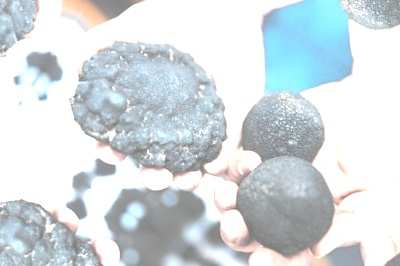halobolite: (60, 23, 232, 174), (233, 144, 341, 261), (239, 75, 333, 170)
